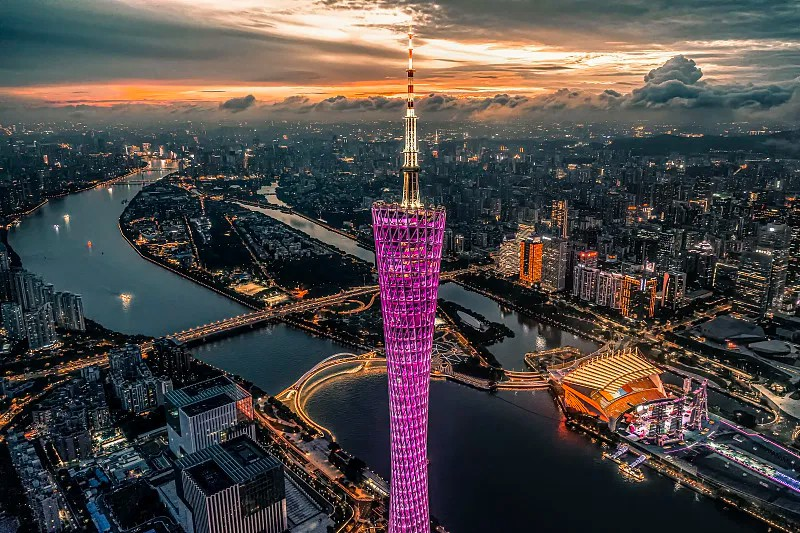Canton: (369, 25, 449, 533)
